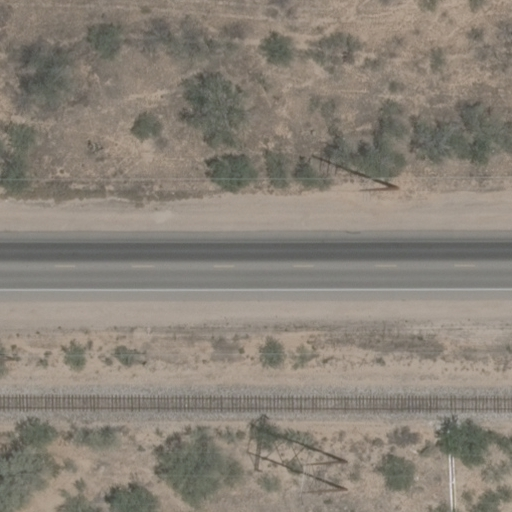DT: (305, 151, 401, 192)
TT: (238, 416, 350, 491)
